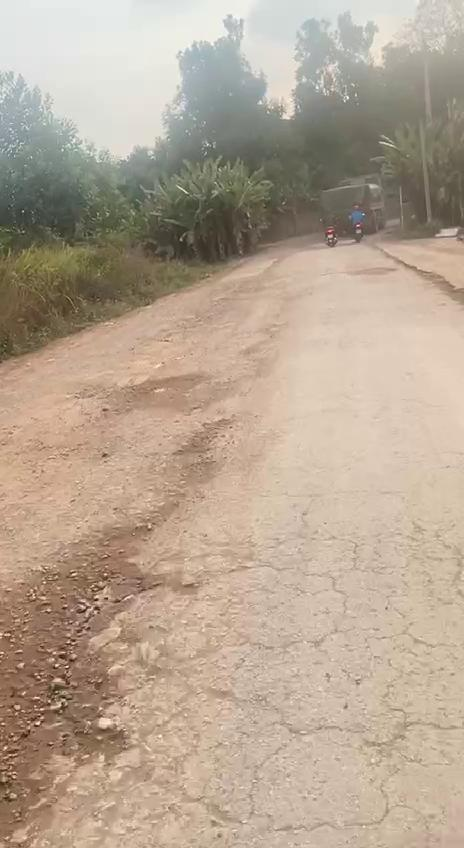pothole: (35, 558, 161, 770)
